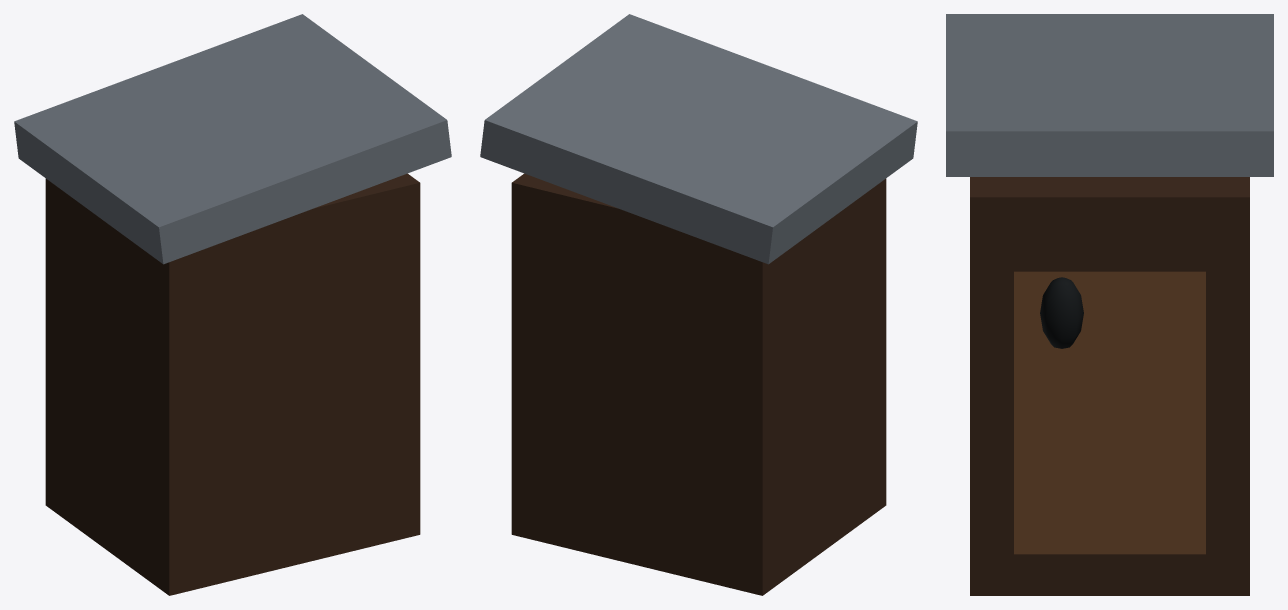
The model's file is latrine.glb.
The picture shows the model from 3 angles, left to right: view 1: azimuth 30°, elevation 25°; view 2: azimuth 150°, elevation 25°; view 3: azimuth 270°, elevation 25°; orthographic projection. The views are drawn at different scales.
Visible parts, largest first — view 1: shackBody, tinRoof; view 2: shackBody, tinRoof; view 3: shackBody, tinRoof, door, moonVent.
Boxes of the visible parts, x1,y1,x2,y2 form: shackBody: [45, 173, 420, 595]; tinRoof: [14, 14, 451, 264]; shackBody: [511, 173, 886, 595]; tinRoof: [480, 14, 917, 264]; shackBody: [970, 177, 1249, 595]; tinRoof: [946, 14, 1273, 176]; door: [1014, 271, 1205, 554]; moonVent: [1040, 277, 1083, 348].
Bounding box in the file's own units: 0.9638 × 1.31 × 0.82.
